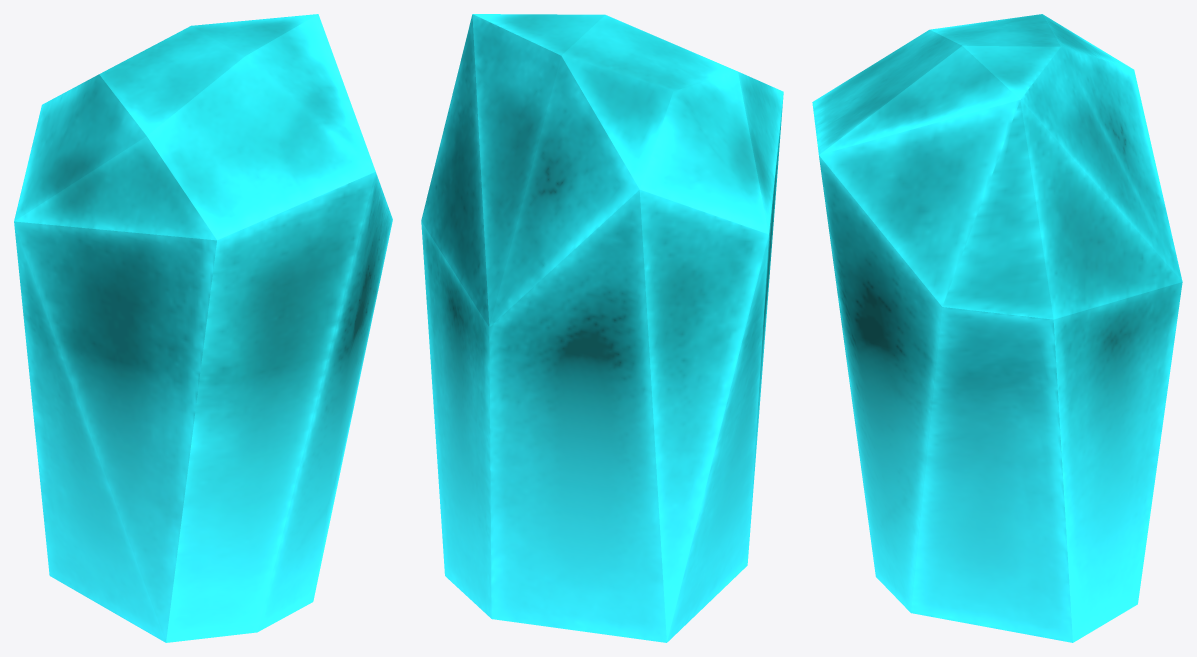
Rendered from crystal_piece_003.fbx.
3 views of the same model, side by side, from view 1: azimuth 30°, elevation 25°; view 2: azimuth 150°, elevation 25°; view 3: azimuth 270°, elevation 25° (orthographic).
Parts seen in each view (by area): view 1: crystal_piece_003; view 2: crystal_piece_003; view 3: crystal_piece_003.
Part boxes in pixels (left/top/right/bottom): crystal_piece_003: left=14, top=14, right=392, bottom=642; crystal_piece_003: left=421, top=14, right=783, bottom=642; crystal_piece_003: left=812, top=14, right=1182, bottom=642.
Size of the model in its own units: 0.4903 by 0.7536 by 0.4632.
1 material, 1 textured.
